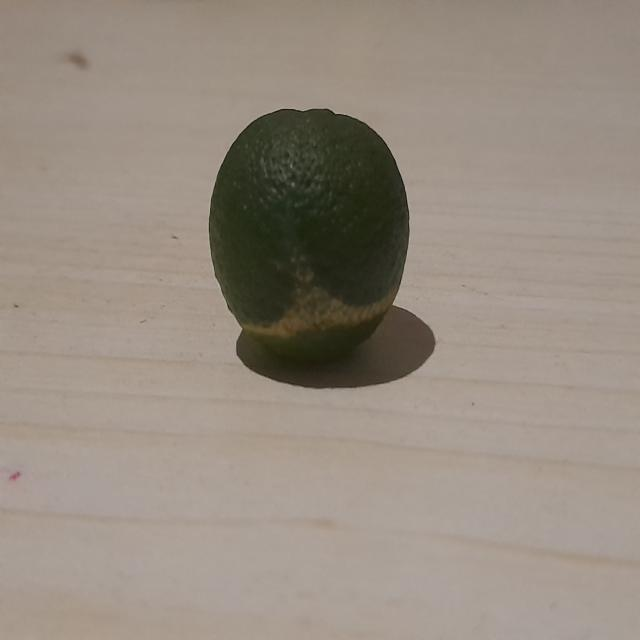thrips: (213, 90, 410, 374)
